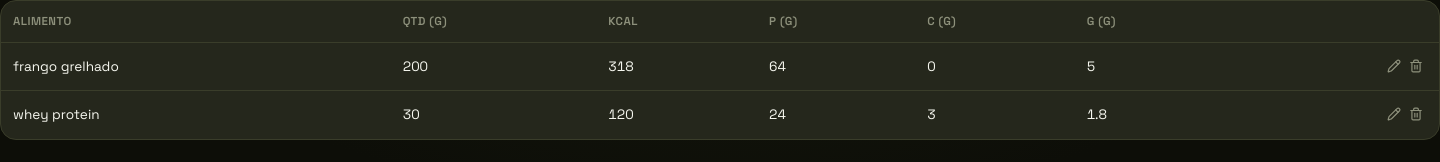
Test: MealsTable › cancela a edição sem salvar
Click the button named "editar whey protein" at coordinates (1394, 114), box [1383,103,1405,125]
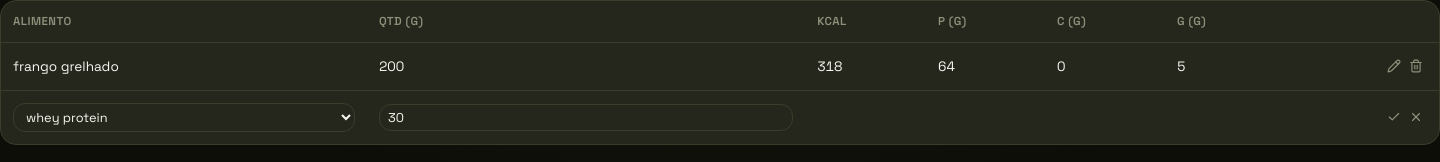
Click the button named "cancelar edição" at coordinates (1416, 117), box [1405,106,1427,128]
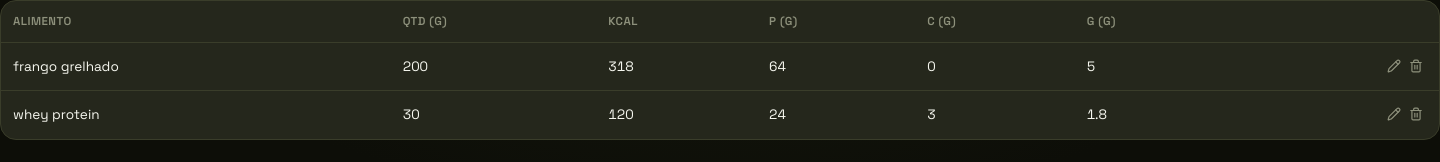
Result: the cell "whey protein" is shown at [1,91,391,139]
